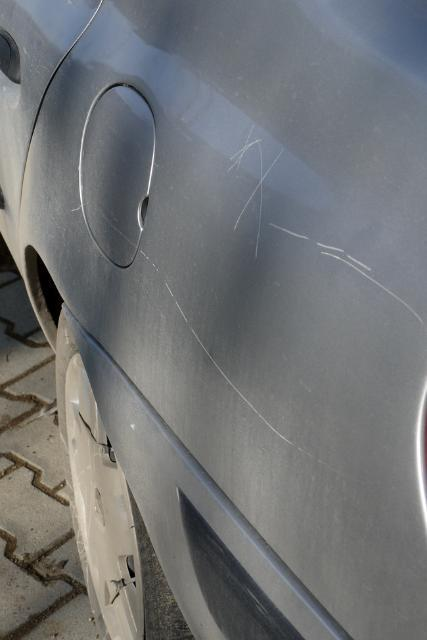Fender: (103, 85, 427, 465)
